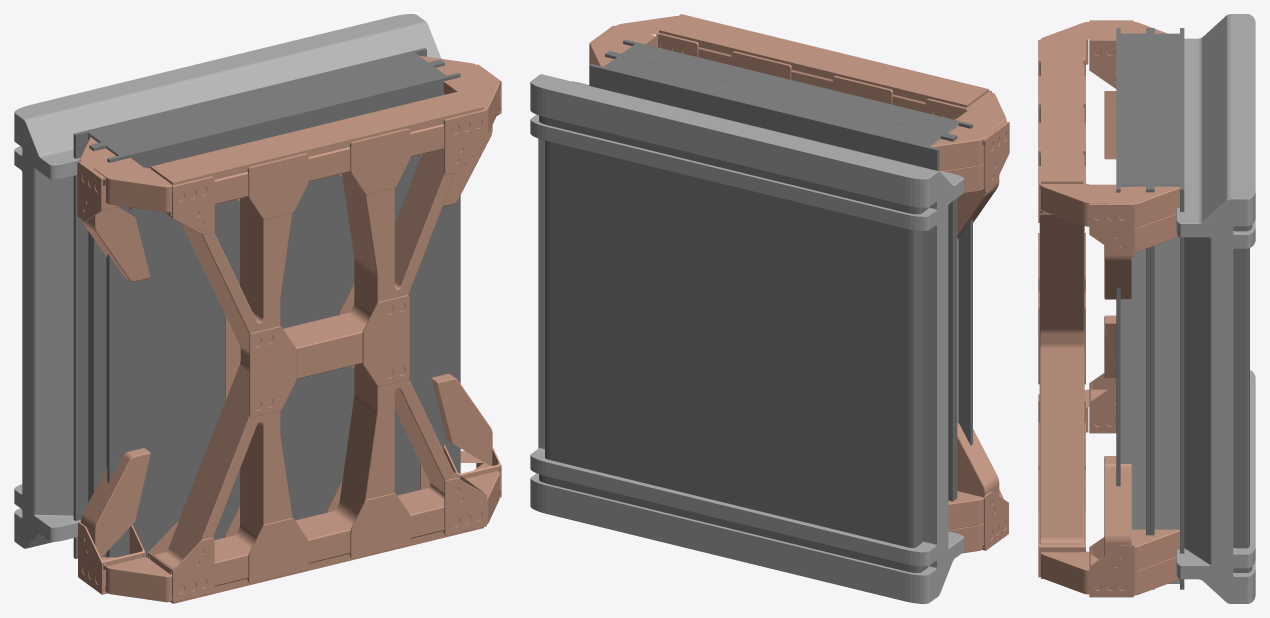
The model's file is ArmorBlock.glb.
The picture shows the model from 3 angles, left to right: view 1: azimuth 30°, elevation 25°; view 2: azimuth 150°, elevation 25°; view 3: azimuth 270°, elevation 25°; orthographic projection. The views are drawn at different scales.
Visible parts, largest first — view 1: Component#113.003, Component#86.022; view 2: Component#113.003, Component#86.022; view 3: Component#113.003, Component#86.022.
Boxes of the visible parts, <box> form: Component#113.003: <box>14,14,460,558</box>; Component#86.022: <box>77,55,501,603</box>; Component#113.003: <box>530,39,972,603</box>; Component#86.022: <box>589,14,1009,553</box>; Component#113.003: <box>1116,14,1255,603</box>; Component#86.022: <box>1038,20,1179,597</box>.
Bounding box in the file's own units: 6.31 × 6.42 × 3.12.
